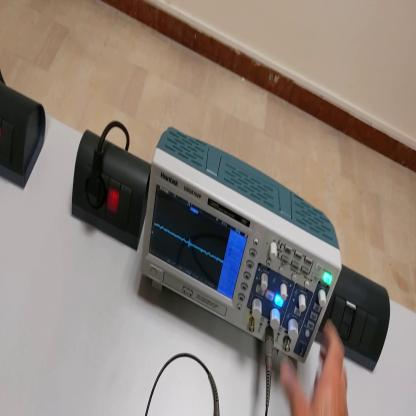hand: (279, 323, 351, 416)
oscilloscope: (141, 125, 344, 363)
oscilloscope probe tip: (211, 379, 222, 415)
socket: (71, 133, 151, 258), (1, 78, 50, 191)
